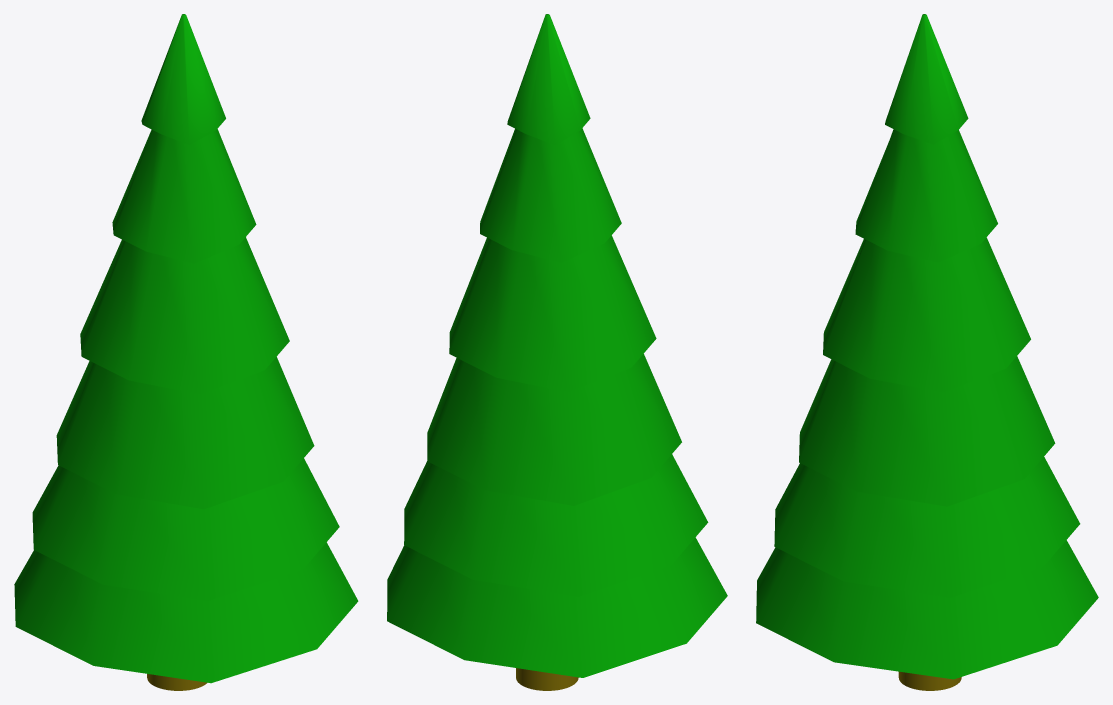
File: elka.fbx
The picture shows the model from 3 angles, left to right: view 1: azimuth 30°, elevation 25°; view 2: azimuth 150°, elevation 25°; view 3: azimuth 270°, elevation 25°; orthographic projection.
Visible parts, largest first — view 1: Cylinder, Cylinder_1; view 2: Cylinder, Cylinder_1; view 3: Cylinder, Cylinder_1.
Part boxes in pixels (x1=…): Cylinder: x1=14, y1=14, x2=358, y2=683; Cylinder_1: x1=147, y1=674, x2=207, y2=690; Cylinder: x1=387, y1=14, x2=727, y2=677; Cylinder_1: x1=516, y1=668, x2=578, y2=690; Cylinder: x1=756, y1=14, x2=1098, y2=679; Cylinder_1: x1=898, y1=671, x2=961, y2=690.
Bounding box in the file's own units: 231 × 487 × 228.
